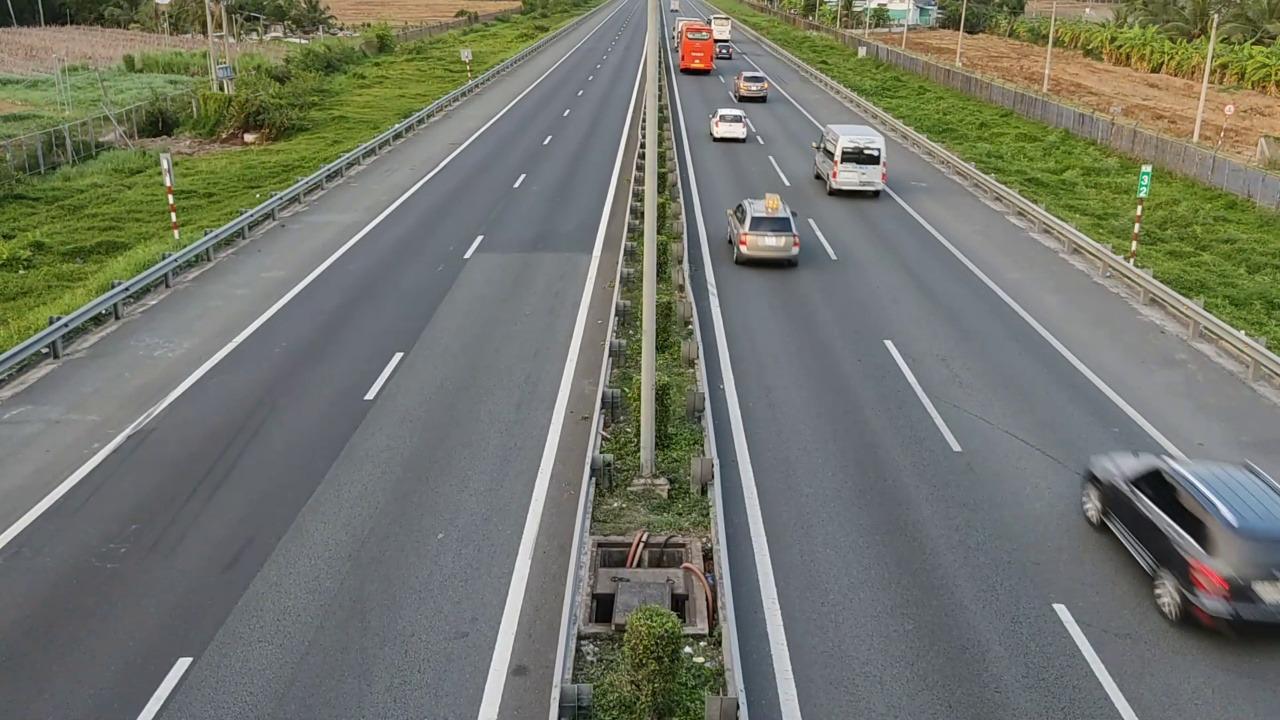car: (1079, 450, 1279, 637), (811, 123, 887, 196), (725, 195, 803, 266), (708, 107, 748, 142), (731, 71, 771, 102)
